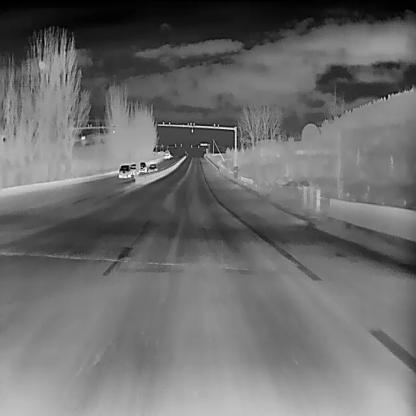car: (118, 164, 131, 177), (138, 161, 147, 172), (130, 162, 138, 174), (148, 164, 158, 173), (164, 150, 170, 158)
